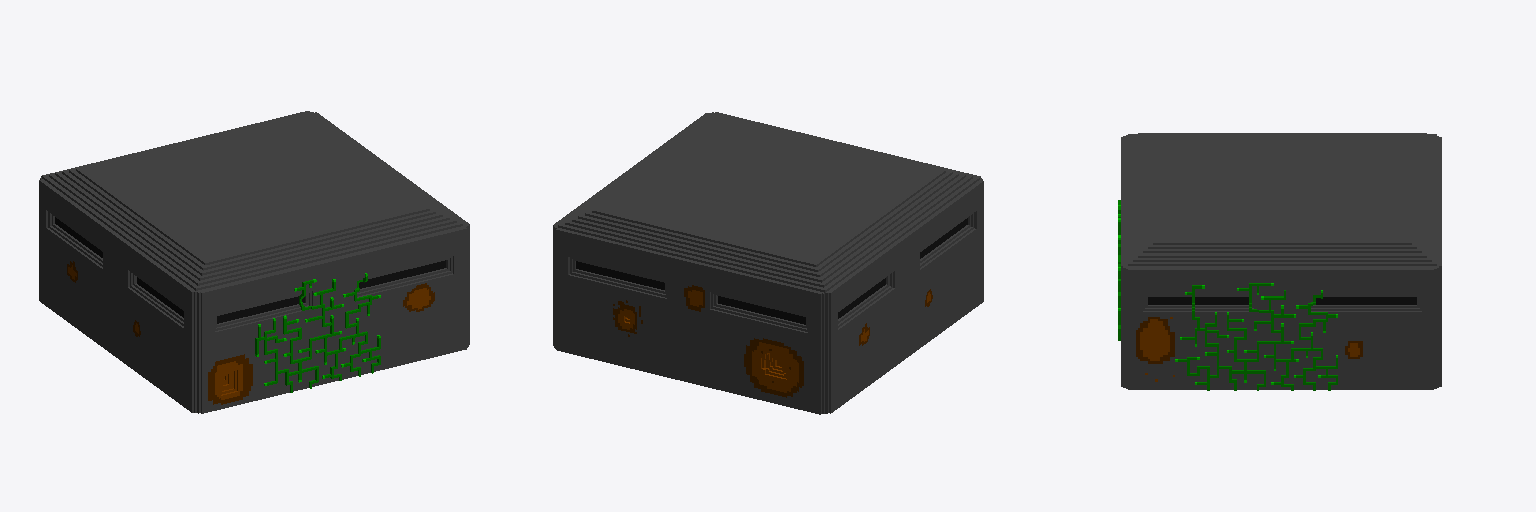
3 renders of one model, left to right at view 1: azimuth 30°, elevation 25°; view 2: azimuth 150°, elevation 25°; view 3: azimuth 270°, elevation 25°, orthographic.
Parts seen in each view (by area): view 1: object 1; view 2: object 1; view 3: object 1.
Part boxes in pixels (x1,y1,x2,y2): object 1: (39,111,469,413); object 1: (553,112,983,414); object 1: (1118,133,1441,390).
Bounding box in the file's own units: 13.1 × 6 × 13.1.
Materials: 1 (1 with a texture image).